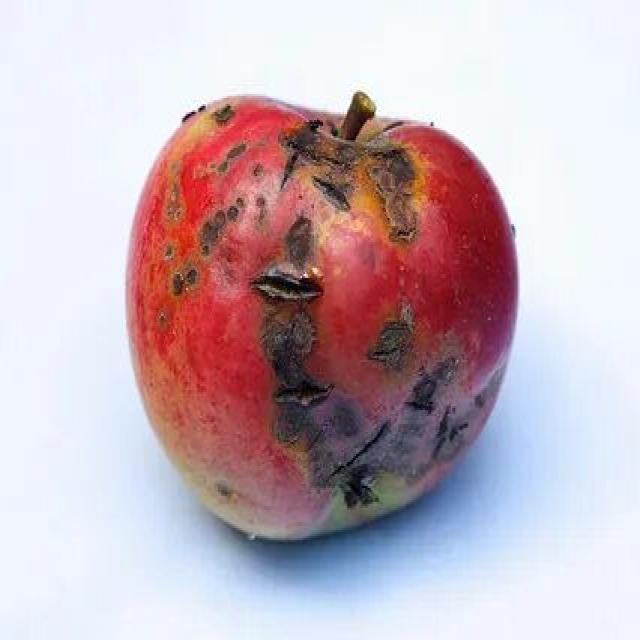Rotten: (134, 102, 508, 563)
